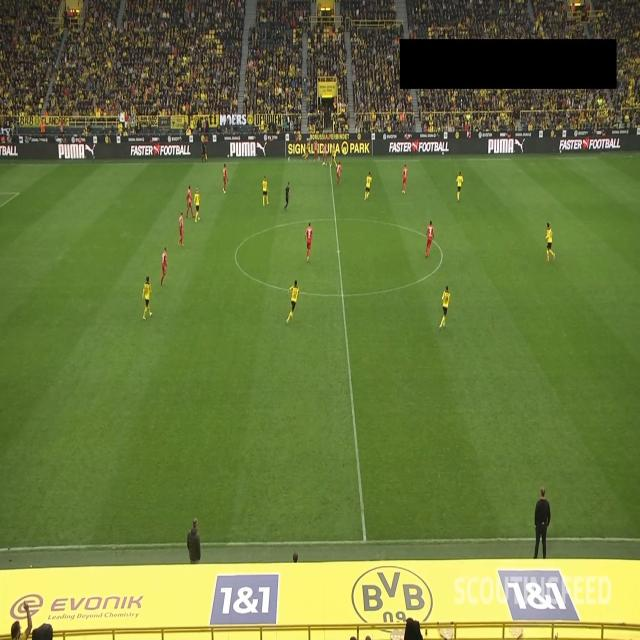ball: (322, 160, 326, 166)
